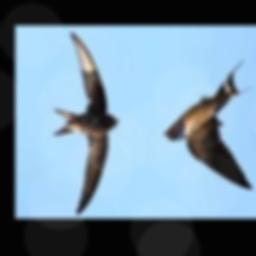Swallow: (53, 32, 119, 214), (162, 61, 252, 190)
